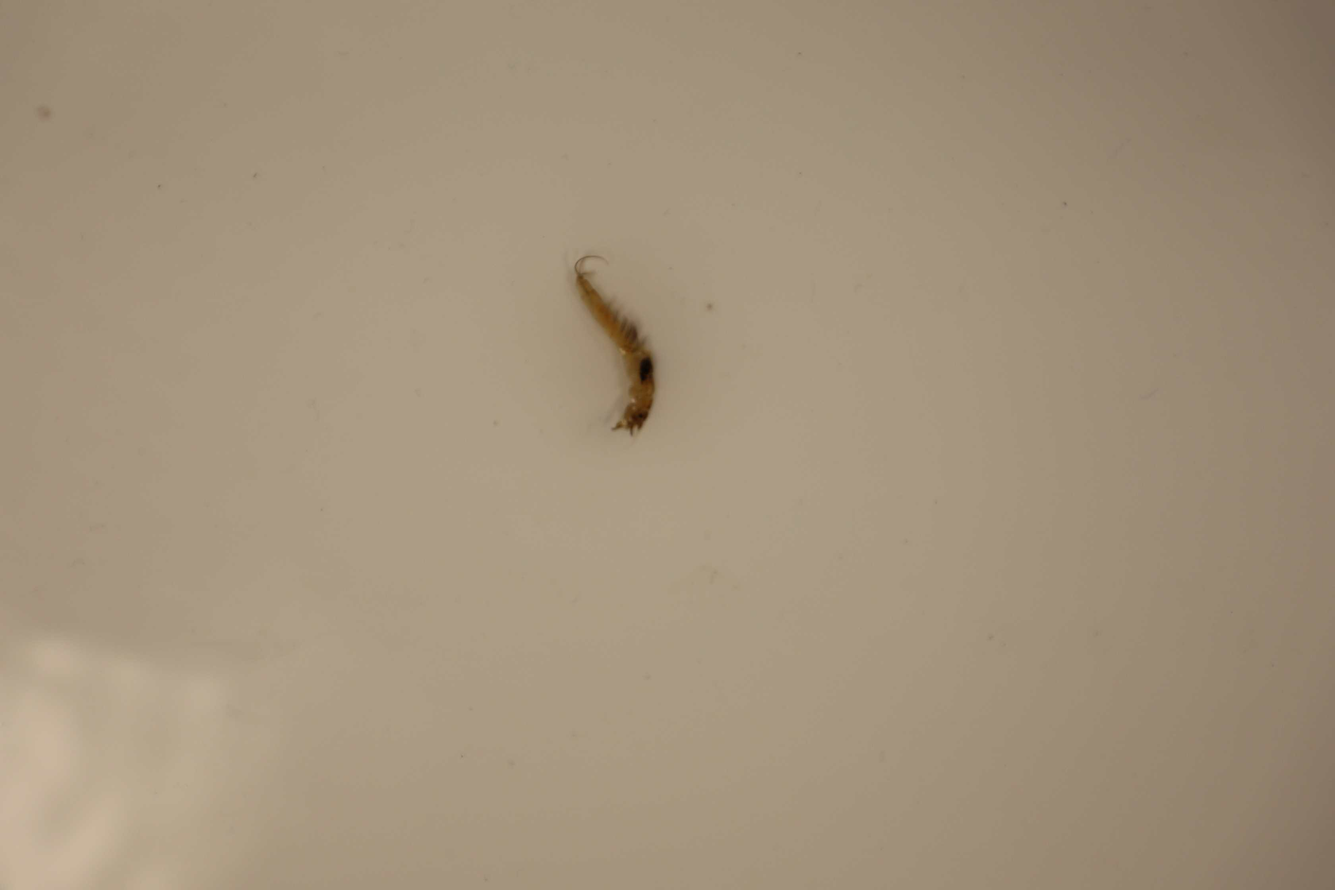Other: (561, 249, 664, 437)
